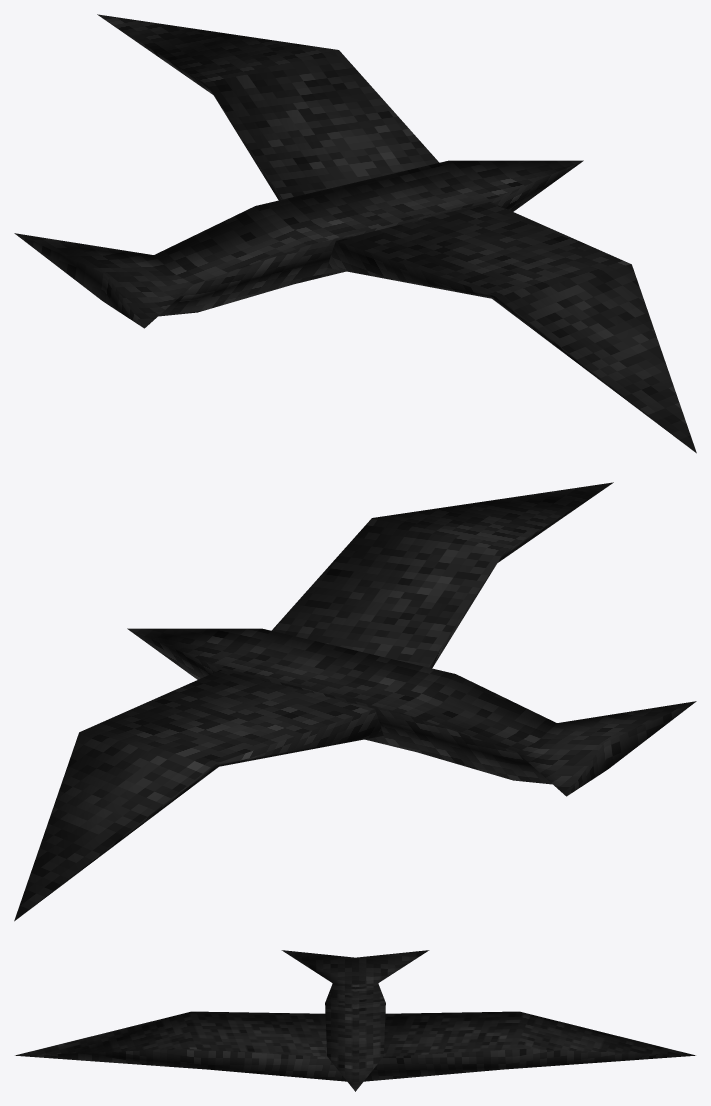
Rendered from bird.fbx.
3 views of the same model, one above another, from view 1: azimuth 30°, elevation 25°; view 2: azimuth 150°, elevation 25°; view 3: azimuth 270°, elevation 25° (orthographic). The views are drawn at different scales.
Visible parts, largest first — view 1: bird, bird2, bird3; view 2: bird, bird3, bird2; view 3: bird2, bird3, bird.
Boxes of the visible parts, <box> form: bird: <box>14,160,583,328</box>; bird2: <box>327,202,696,453</box>; bird3: <box>97,14,439,200</box>; bird: <box>127,628,696,796</box>; bird3: <box>14,670,383,921</box>; bird2: <box>271,482,613,668</box>; bird2: <box>15,1011,346,1081</box>; bird3: <box>364,1011,695,1081</box>; bird: <box>281,950,429,1091</box>.
Size of the model in its own units: 79.75 by 164 by 12.86.
